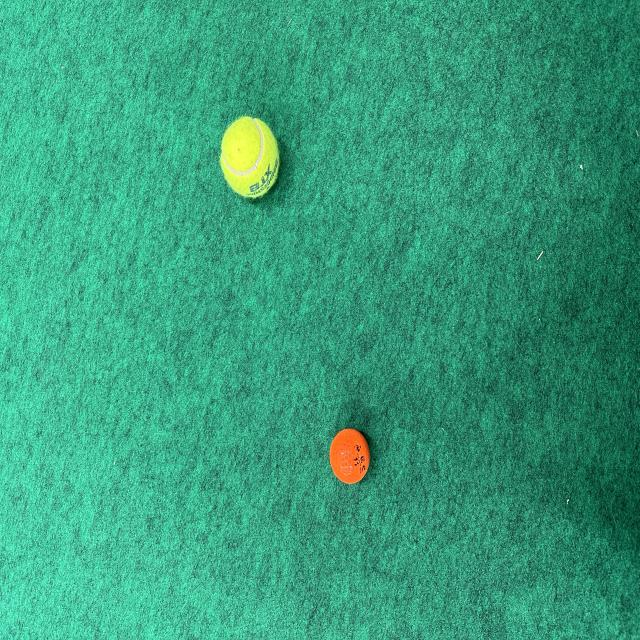ball: (329, 426, 374, 491)
